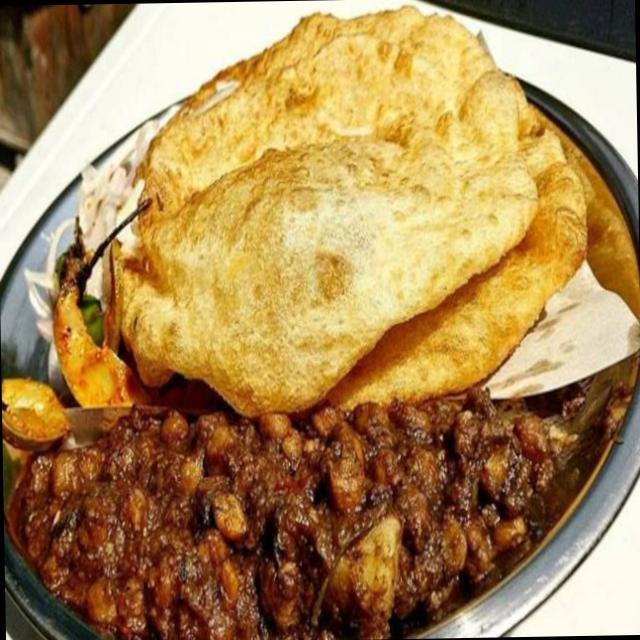Bhatura: (107, 0, 589, 413)
Chole: (20, 402, 559, 640)
